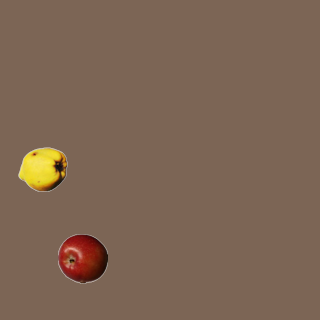Apple Braeburn: (57, 233, 107, 283)
Quince: (17, 144, 67, 194)
